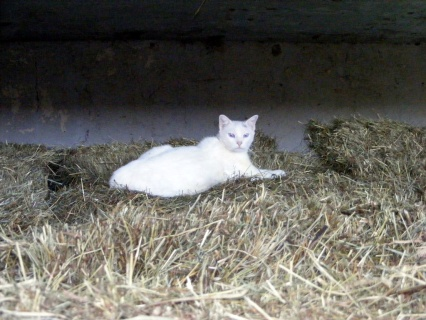Cat: (106, 112, 285, 196)
